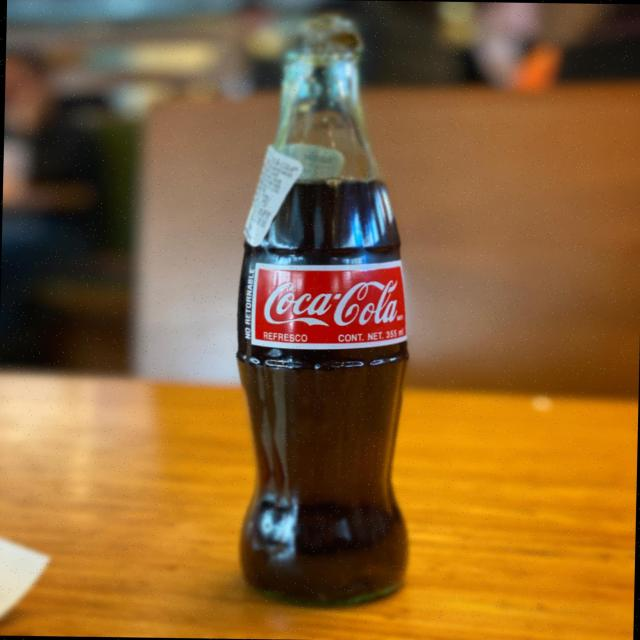coca-cola: (222, 16, 438, 613)
